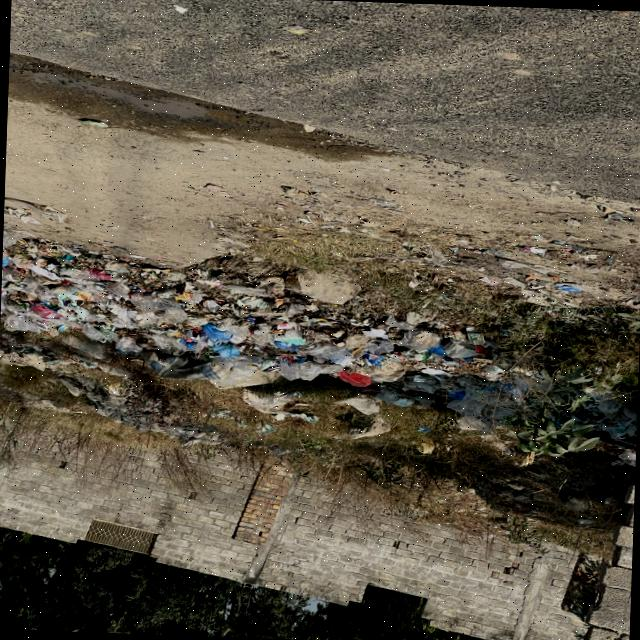garbage: (5, 237, 401, 413), (402, 322, 628, 468)
